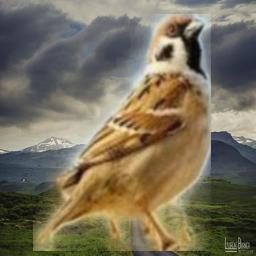Sparrow: (33, 14, 211, 251)
